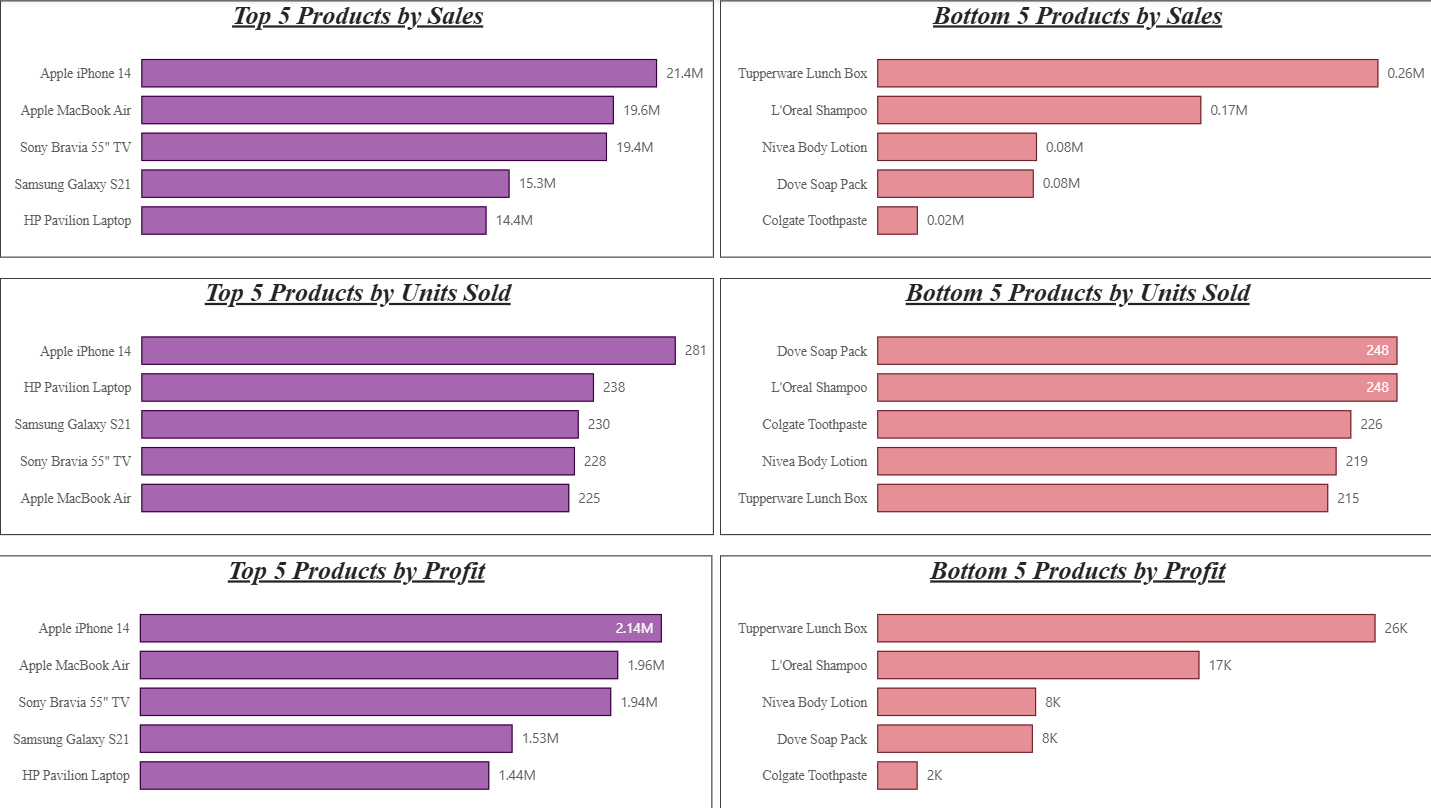

This screenshot's page, from the dashboard's own definition file:
{"tool":"powerbi","page":{"name":"Top/Bottom 5 Products","canvas":[1280,720],"ordinal":1},"visuals":[{"type":"barChart","title":"Top 5 Products by Sales","fields":{"Category":["Dim Product.Product Name"],"Y":["Sum(Records.Net Sales)"]},"box":[10.6,1.5,631.4,227.1],"z":0},{"type":"barChart","title":"Bottom 5 Products by Sales","fields":{"Category":["Dim Product.Product Name"],"Y":["Sum(Records.Net Sales)"]},"box":[648.1,1.5,631.4,227.1],"z":1000},{"type":"barChart","title":"Top 5 Products by Units Sold","fields":{"Category":["Dim Product.Product Name"],"Y":["Sum(Records.Units Sold)"]},"box":[10.6,246.8,631.4,227.1],"z":2000},{"type":"barChart","title":"Top 5 Products by Profit","fields":{"Category":["Dim Product.Product Name"],"Y":["Sum(Records.Profit)"]},"box":[9.1,492.1,631.4,227.1],"z":3000},{"type":"barChart","title":"Bottom 5 Products by Profit","fields":{"Category":["Dim Product.Product Name"],"Y":["Sum(Records.Profit)"]},"box":[648.1,492.1,631.4,227.1],"z":4000},{"type":"barChart","title":"Bottom 5 Products by Units Sold","fields":{"Category":["Dim Product.Product Name"],"Y":["Sum(Records.Units Sold)"]},"box":[648.1,246.8,631.4,227.1],"z":5000}]}

Visuals, with their boxes in screenshot pixels (x1, y1, x2, y2), scaled from the page's 1280x720 canvas onto the 1431x808 screenshot:
"Top 5 Products by Sales" barChart: <region>12, 2, 718, 257</region>
"Bottom 5 Products by Sales" barChart: <region>725, 2, 1430, 257</region>
"Top 5 Products by Units Sold" barChart: <region>12, 277, 718, 532</region>
"Top 5 Products by Profit" barChart: <region>10, 552, 716, 807</region>
"Bottom 5 Products by Profit" barChart: <region>725, 552, 1430, 807</region>
"Bottom 5 Products by Units Sold" barChart: <region>725, 277, 1430, 532</region>
